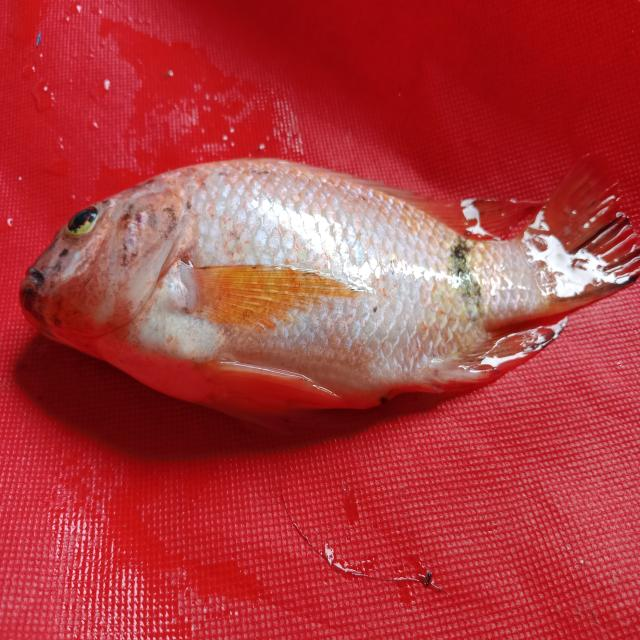ikan: (22, 133, 612, 442)
